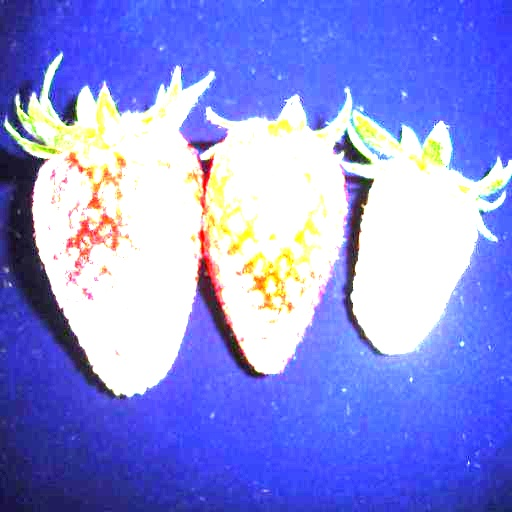Powdery Mildew Fruit: (32, 120, 205, 396), (198, 121, 347, 374), (352, 154, 481, 354)
